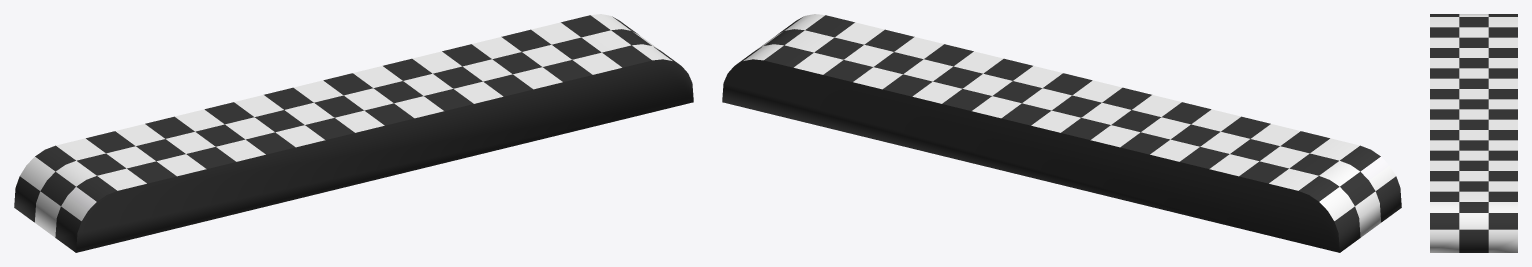
The model's file is PlatformFinishLine.fbx.
3 views of the same model, side by side, from view 1: azimuth 30°, elevation 25°; view 2: azimuth 150°, elevation 25°; view 3: azimuth 270°, elevation 25° (orthographic). The views are drawn at different scales.
Parts seen in each view (by area): view 1: Cube.012; view 2: Cube.012; view 3: Cube.012.
Part boxes in pixels (x1=…): Cube.012: x1=14, y1=14, x2=693, y2=252; Cube.012: x1=722, y1=14, x2=1401, y2=252; Cube.012: x1=1430, y1=14, x2=1517, y2=252.
Bounding box in the file's own units: 284 × 22.8 × 49.27.
Materials: 1 (1 with a texture image).
